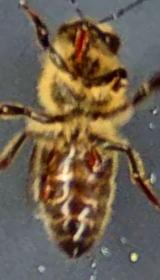varroa_mite: (34, 169, 54, 203), (78, 145, 106, 165)
